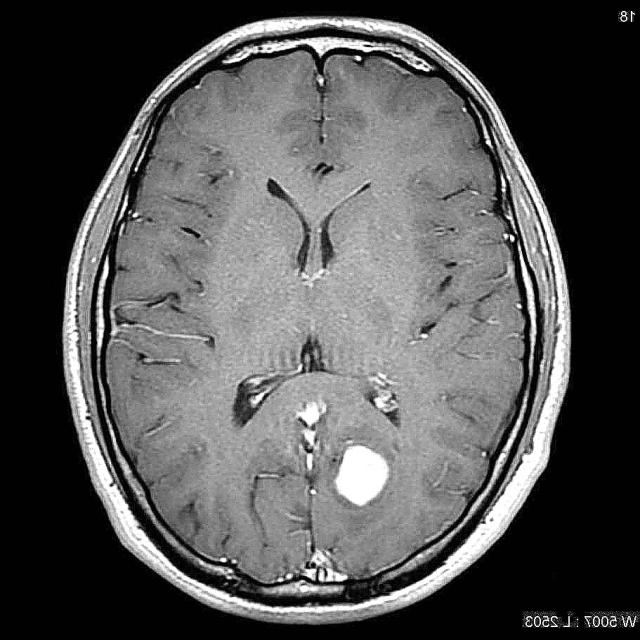Tumor-Cell: (333, 422, 393, 519)
